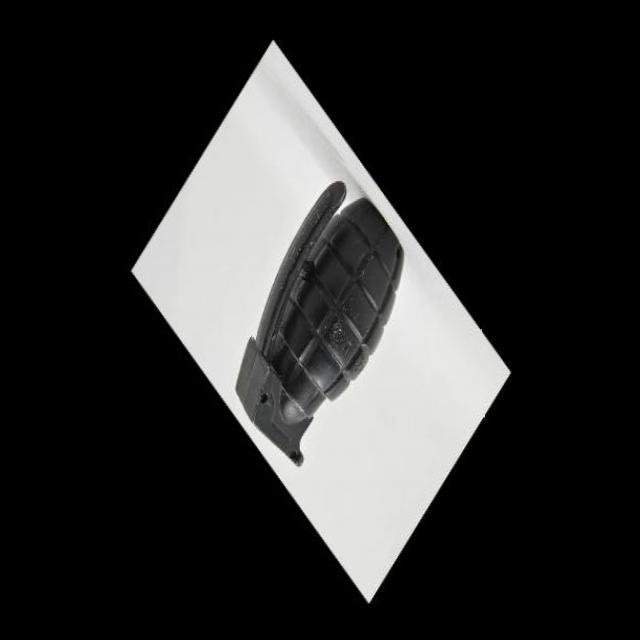grenade: (227, 185, 422, 470)
